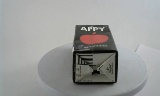appy: (66, 24, 110, 85)
